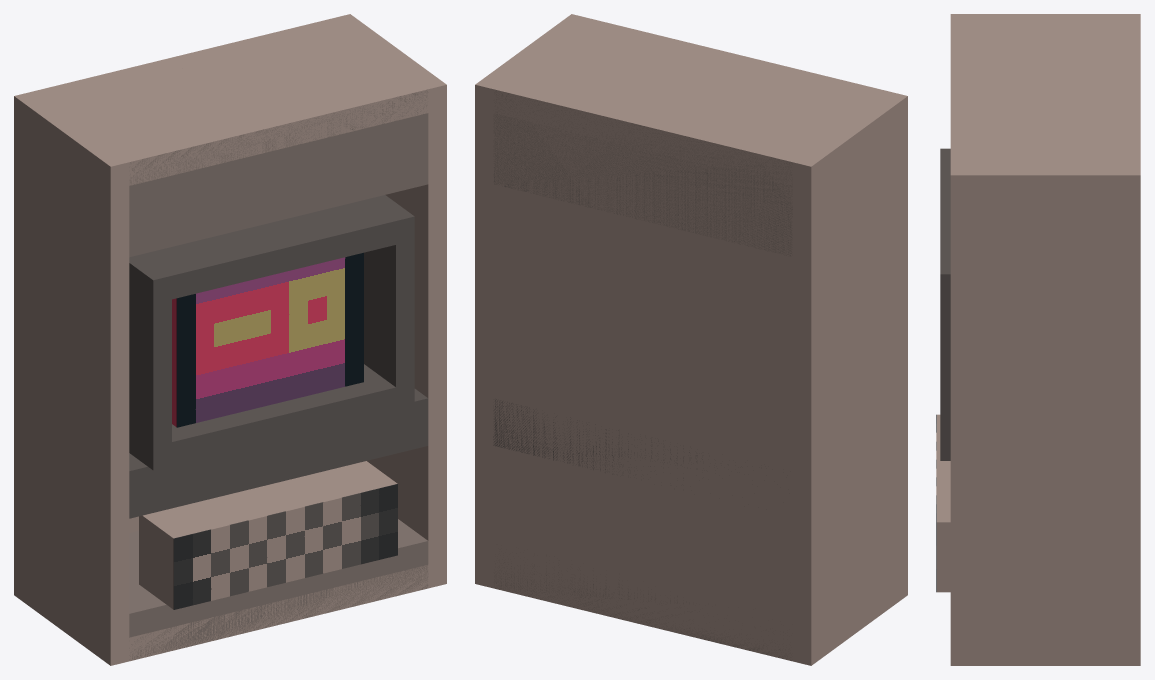
The model's file is CMU3DDropshipNavigationCloudSouth.glb.
3 renders of one model, left to right at view 1: azimuth 30°, elevation 25°; view 2: azimuth 150°, elevation 25°; view 3: azimuth 270°, elevation 25°, orthographic.
Visible parts, largest first — view 1: left full depth casing, case roof, upper terminal cap, magenta navigation readout source detail, right full depth casing, keyboard keys source detail, recessed display housing top, display lower apron, terminal lower rail, recessed display housing bottom, keyboard keys substrate, case floor (+4 smaller); view 2: cabinet rear, left full depth casing, case roof, upper terminal cap, right full depth casing, case floor, display lower apron, terminal lower rail; view 3: right full depth casing, case roof, cabinet rear, keyboard keys substrate, left full depth casing, recessed display housing top, recessed display housing right.
Part boxes in pixels (x1,y1,x2,y2): left full depth casing: [14, 91, 129, 665]; case roof: [34, 18, 428, 185]; upper terminal cap: [129, 89, 428, 257]; magenta navigation readout source detail: [176, 252, 363, 427]; right full depth casing: [332, 14, 446, 588]; keyboard keys source detail: [173, 484, 397, 609]; recessed display housing top: [129, 195, 414, 303]; display lower apron: [129, 389, 428, 518]; terminal lower rail: [129, 519, 428, 660]; recessed display housing bottom: [129, 364, 414, 470]; keyboard keys substrate: [139, 461, 397, 609]; case floor: [129, 565, 428, 661]; cabinet rear: [493, 79, 805, 661]; left full depth casing: [792, 91, 907, 665]; case roof: [493, 18, 888, 185]; upper terminal cap: [493, 90, 792, 256]; right full depth casing: [475, 14, 589, 588]; case floor: [493, 567, 792, 661]; display lower apron: [493, 399, 702, 478]; terminal lower rail: [494, 553, 791, 660]; right full depth casing: [950, 166, 1140, 665]; case roof: [950, 23, 1140, 166]; cabinet rear: [1113, 23, 1140, 166]; keyboard keys substrate: [937, 414, 950, 592]; left full depth casing: [950, 14, 1140, 22]; recessed display housing top: [940, 148, 950, 297]; recessed display housing right: [940, 297, 950, 437].
Size of the model in its own units: 0.5625 by 0.798 by 0.301.
6 materials, 2 textured.
